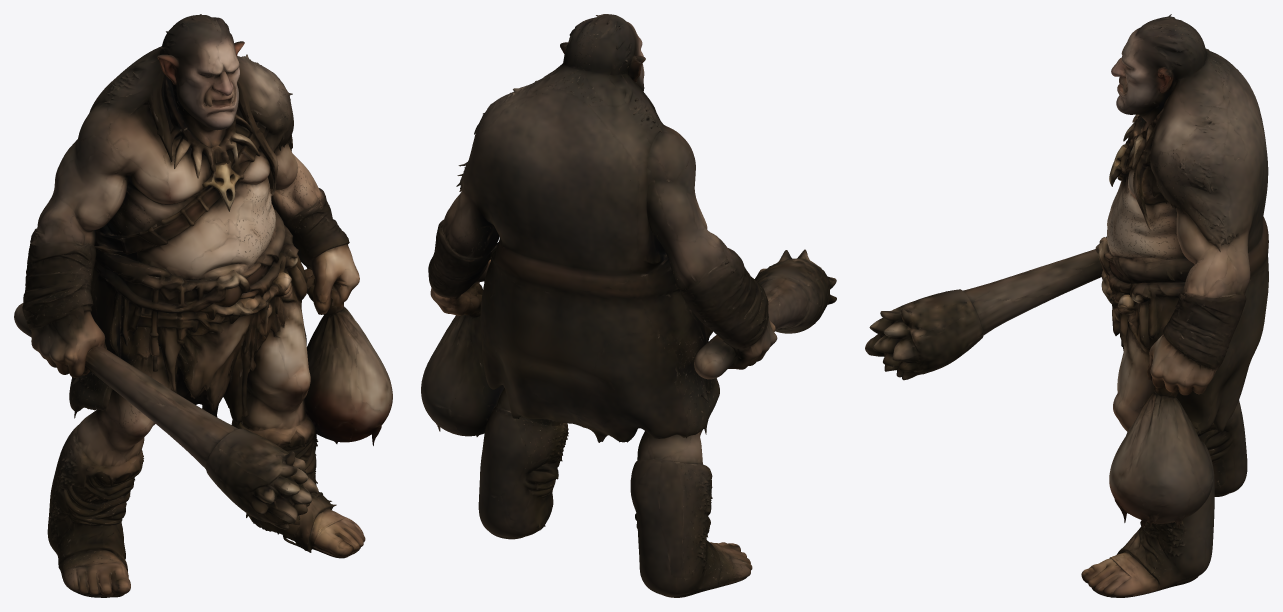
File: hill_giant.glb
3 renders of one model, left to right at view 1: azimuth 30°, elevation 25°; view 2: azimuth 150°, elevation 25°; view 3: azimuth 270°, elevation 25°, orthographic. The views are drawn at different scales.
Parts seen in each view (by area): view 1: material; view 2: material; view 3: material.
Boxes of the visible parts, x1,y1,x2,y2 form: material: (14, 14, 392, 597); material: (421, 14, 836, 597); material: (865, 14, 1268, 597).
Size of the model in its own units: 0.6715 by 0.9923 by 0.7019.
Materials: 1 (1 with a texture image).
